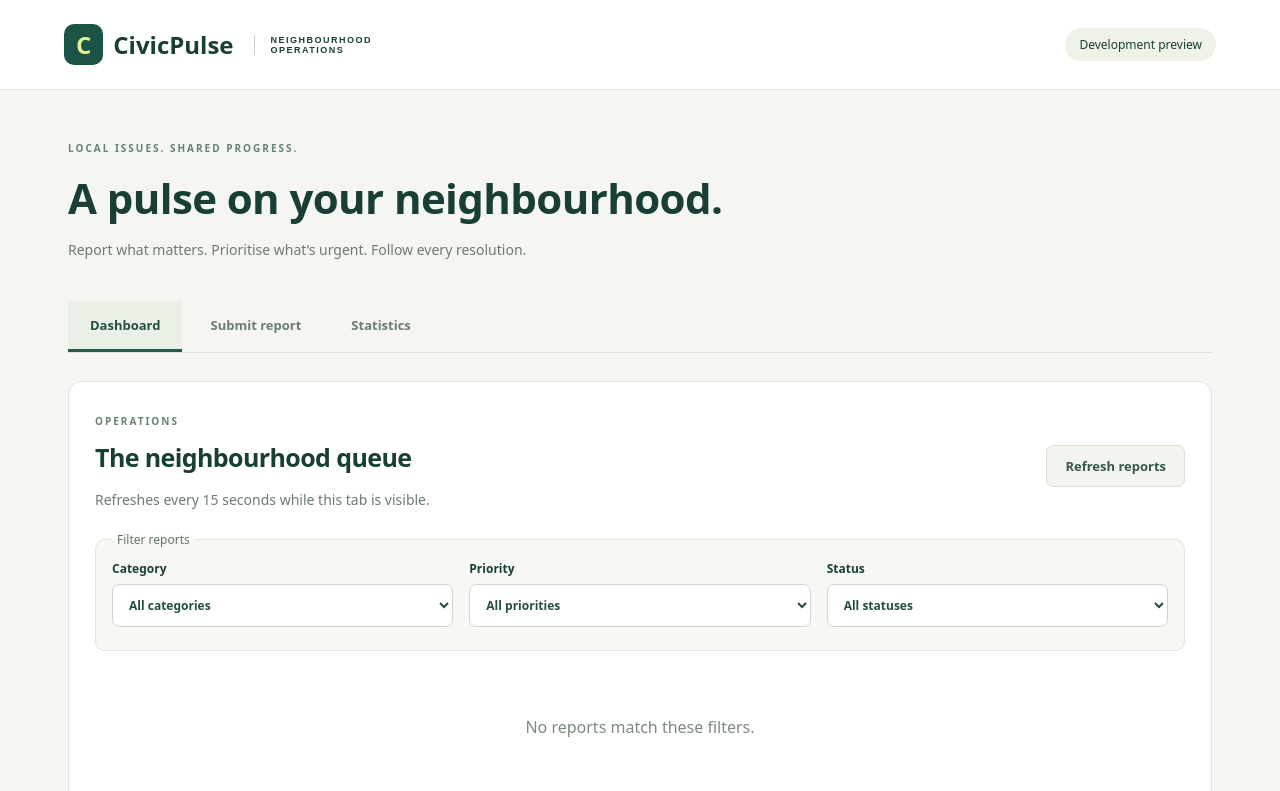
Test case: frontend foundation › navigates to the submission view
Click the button "Submit report" at (256, 326), box [188,301,323,352]
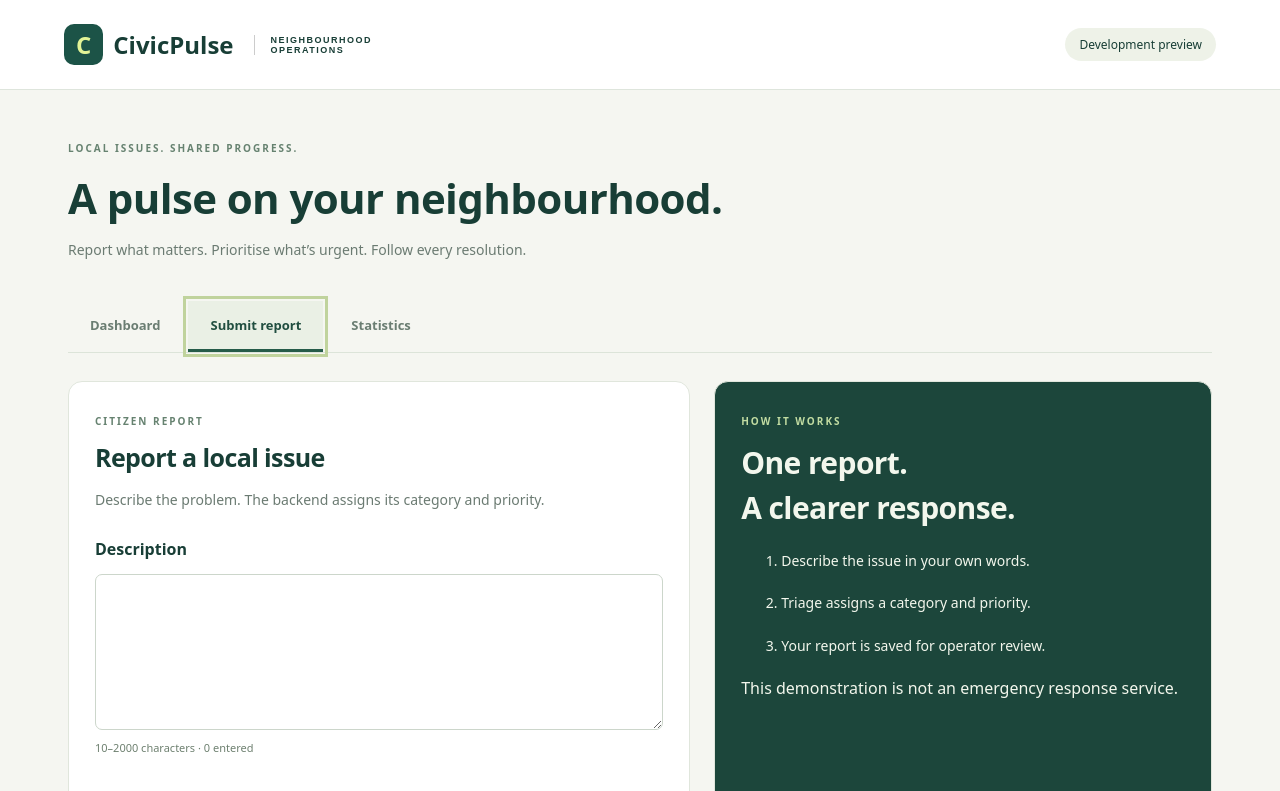
Result: the heading "Report a local issue" is shown at [95,440,325,474]
